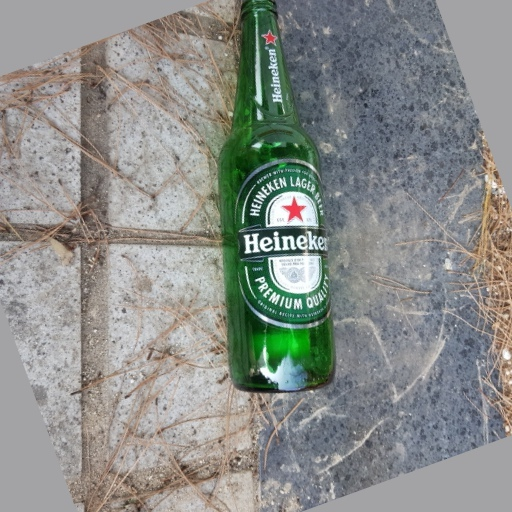Glass_1: (218, 1, 340, 393)
